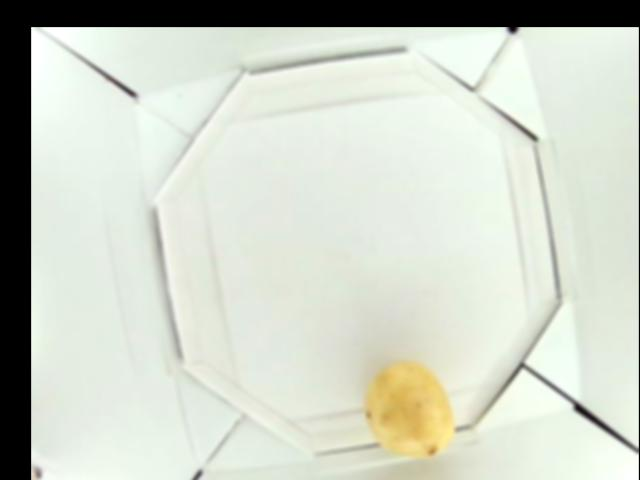Potato: (363, 360, 456, 458)
